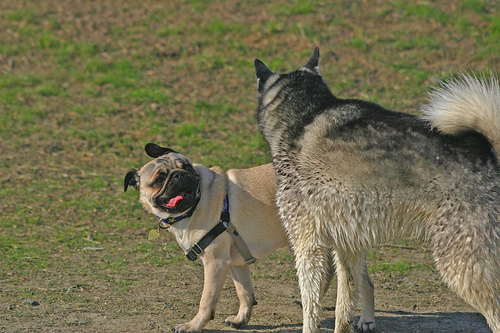dog: (253, 47, 499, 332), (121, 143, 377, 332)
